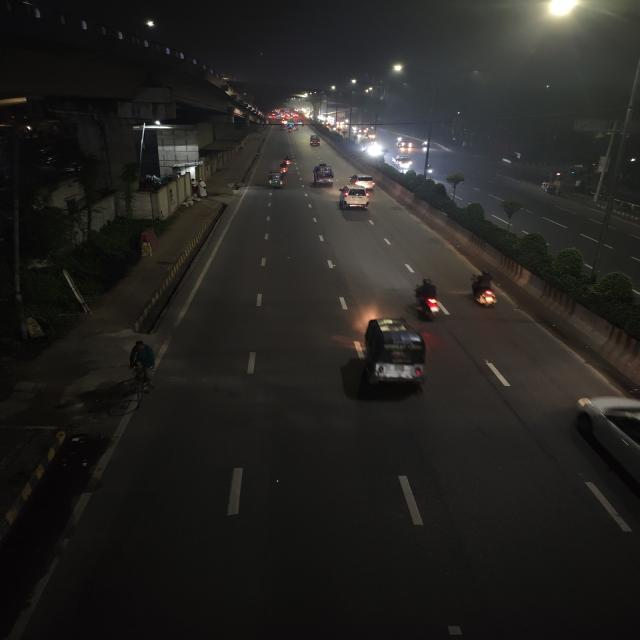car: (337, 185, 372, 212), (346, 173, 376, 190), (398, 138, 412, 149)
cng: (344, 314, 442, 396), (265, 171, 285, 189)
motorcycle: (120, 343, 156, 408), (408, 274, 450, 324), (464, 268, 506, 315), (544, 181, 562, 197), (280, 154, 297, 168), (422, 161, 436, 177), (278, 158, 294, 171)
pickup_van: (393, 156, 414, 170), (307, 136, 323, 147)
rickshaw: (310, 162, 336, 186)
